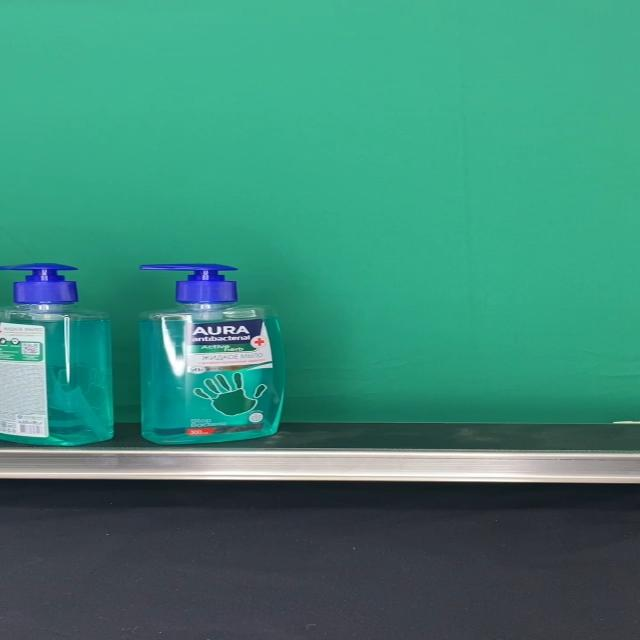Bottle: (137, 264, 285, 444), (0, 263, 114, 446)
Cap: (140, 264, 237, 306), (0, 264, 79, 306)
